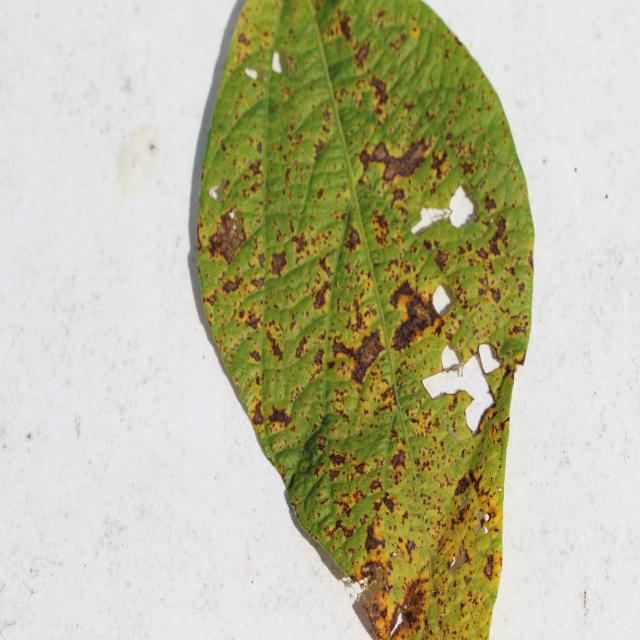Bacterial_Blight: (390, 281, 446, 351), (334, 321, 388, 391), (208, 209, 247, 266), (378, 139, 429, 182), (394, 575, 431, 634), (363, 581, 392, 637), (484, 214, 509, 251), (363, 520, 386, 554), (359, 559, 384, 587), (371, 210, 390, 243), (265, 330, 284, 362), (369, 73, 389, 103), (268, 405, 291, 427), (342, 226, 361, 252), (291, 233, 309, 260), (312, 284, 330, 311), (295, 334, 313, 360), (270, 250, 288, 276), (354, 41, 371, 68), (433, 248, 450, 272), (338, 13, 353, 40), (311, 137, 327, 162), (389, 449, 406, 471), (454, 474, 471, 496), (359, 148, 374, 171), (329, 449, 348, 467), (483, 554, 495, 580), (251, 403, 264, 425), (247, 159, 262, 178), (483, 194, 498, 213), (368, 478, 383, 494), (490, 287, 501, 304)
Soybean: (187, 0, 535, 640)
